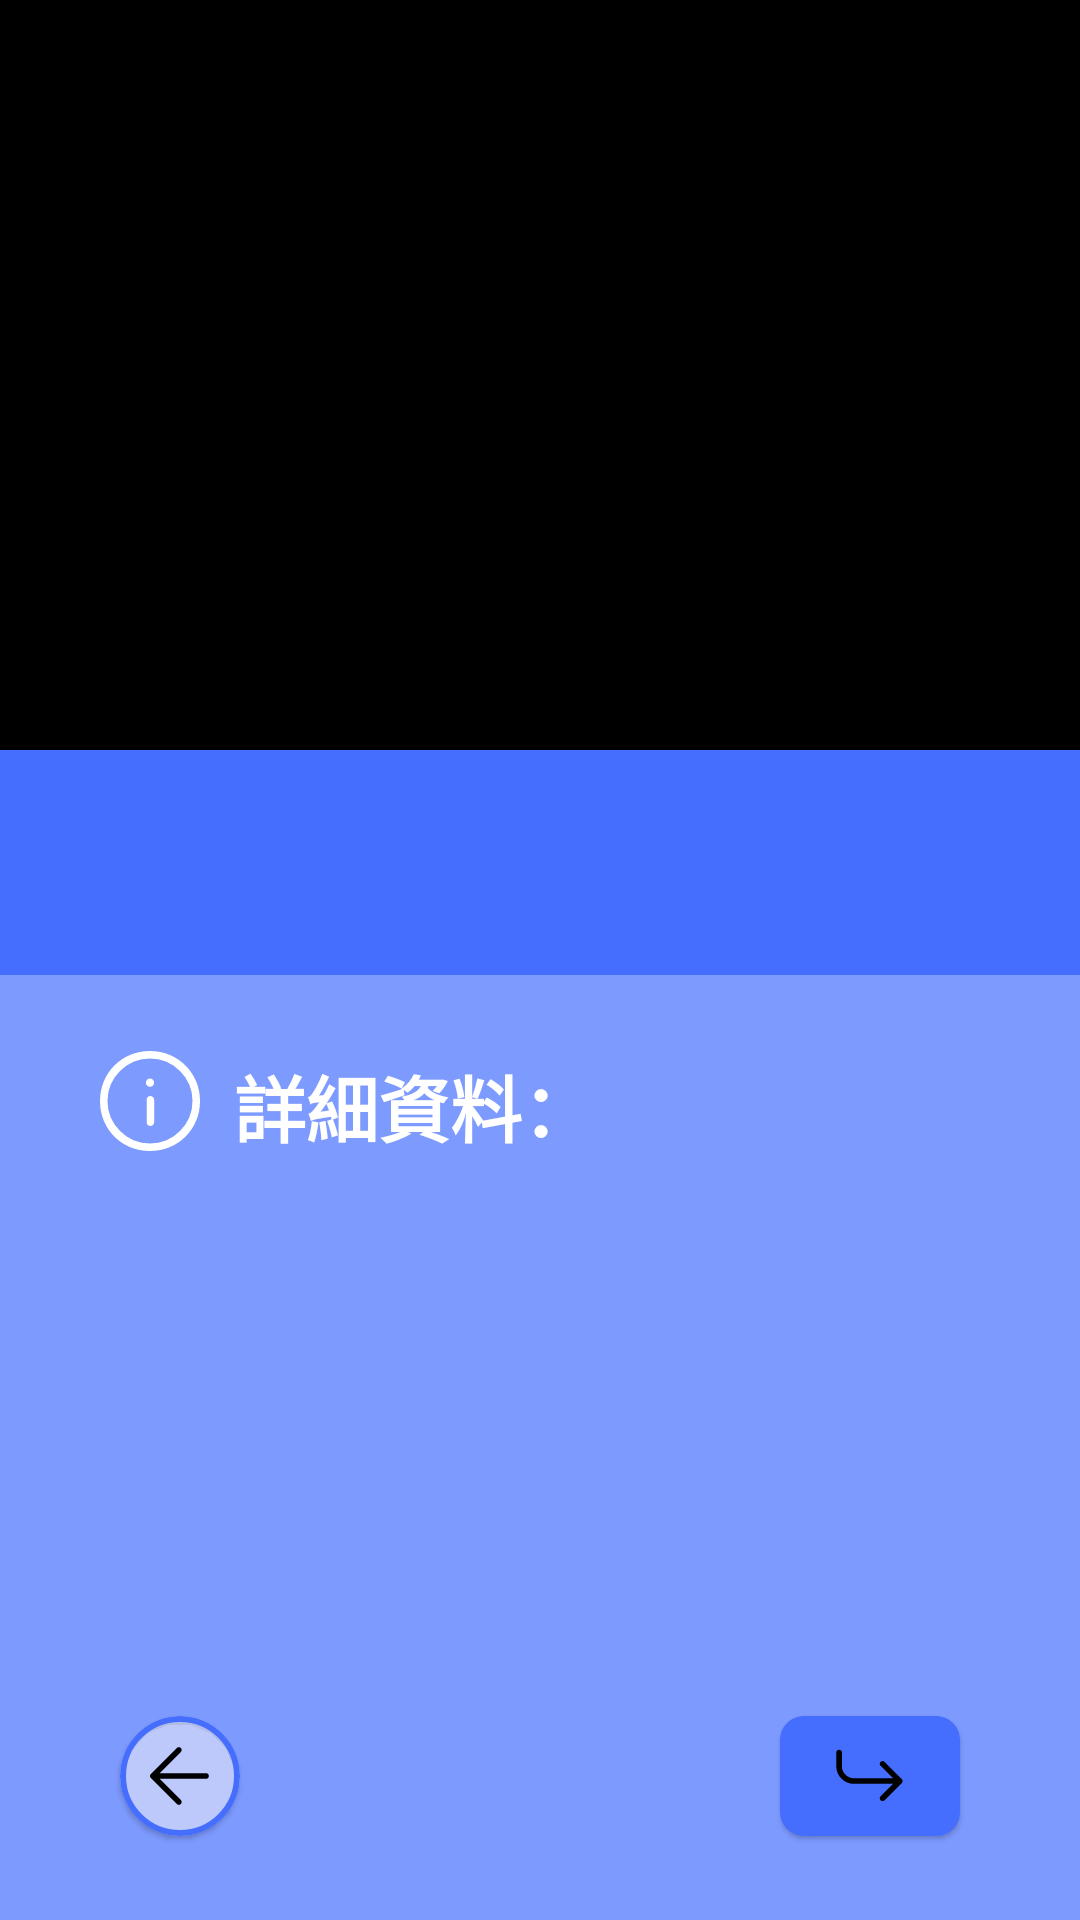

Icon click points for this 1080px x 1920px phone screenshot, format [x,y]:
arrow back: [180,1776]
info: [150,1101]
